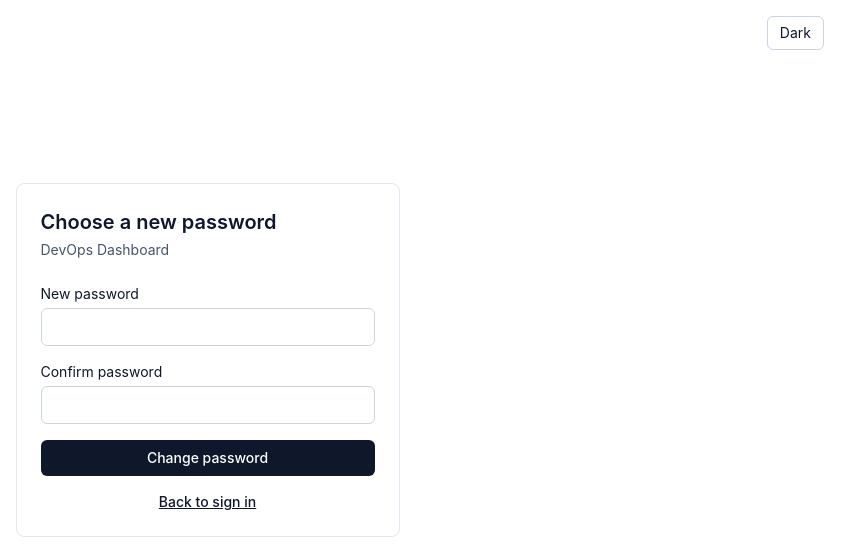
Test: authentication flow › password reset › sets the new password with the token from the link
This screenshot has width=841, height=554.
Type "a-new-password" into the password field labelled "New password" at (208, 327), box top-left (40, 308), bottom-right (374, 346)
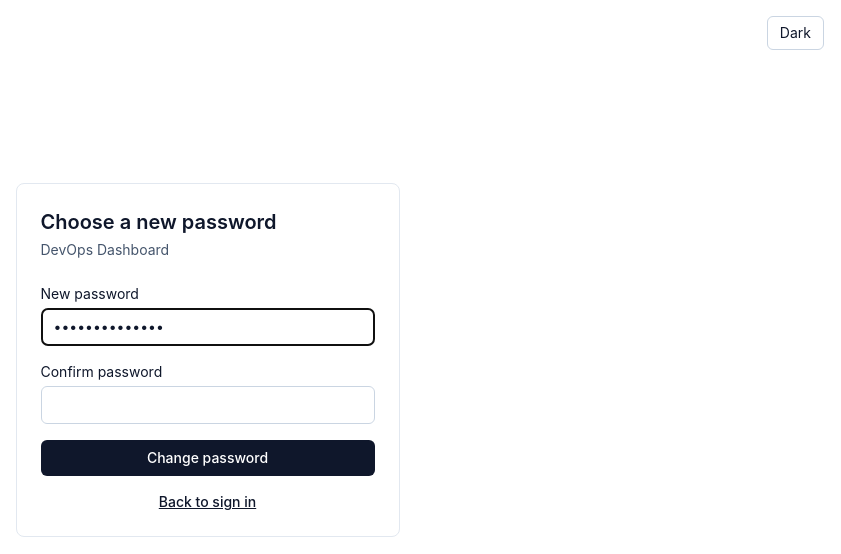
Type "a-new-password" into the password field labelled "Confirm password" at (208, 405), box top-left (40, 386), bottom-right (374, 424)
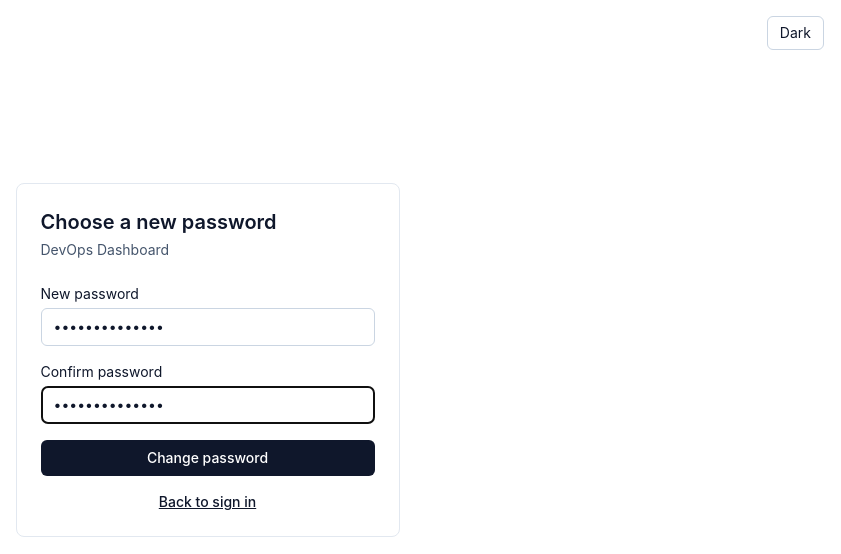
Click the button "Change password" at (208, 458), box top-left (40, 440), bottom-right (374, 476)
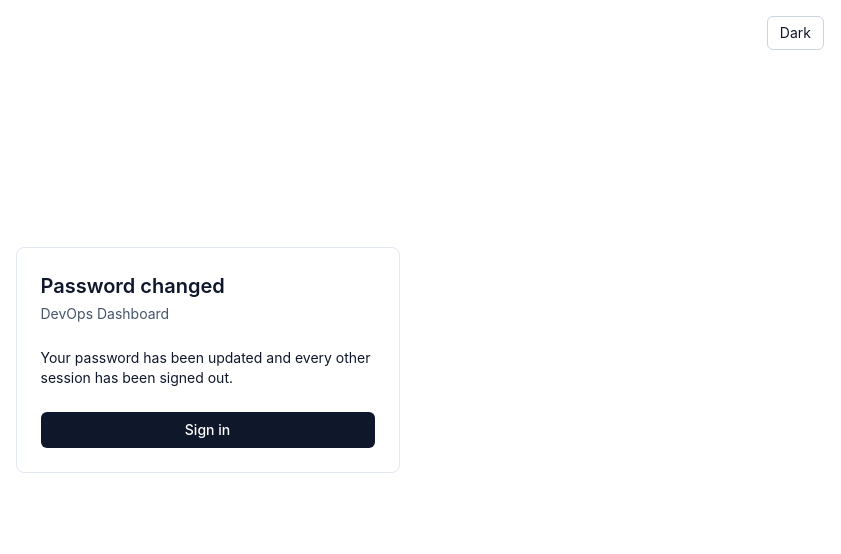
Check: the heading "Password changed" is shown, box top-left (40, 274), bottom-right (225, 298)
